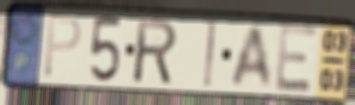5: (87, 14, 126, 85)
A: (228, 24, 275, 89)
E: (274, 23, 321, 95)
I: (202, 19, 218, 90)
P: (41, 14, 84, 81)
R: (133, 17, 180, 87)
